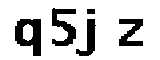5: (47, 5, 80, 47)
j: (77, 7, 99, 60)
q: (12, 17, 47, 60)
z: (114, 18, 145, 48)
